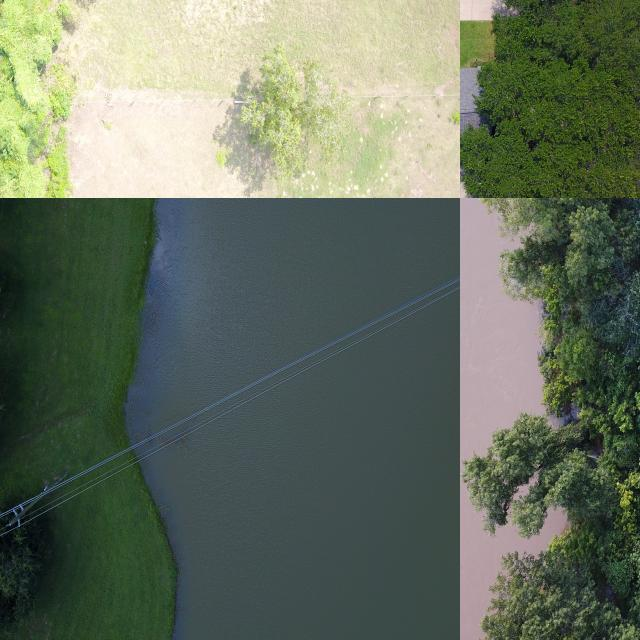fire: (143, 290, 460, 640), (126, 198, 460, 439), (460, 198, 544, 474)
